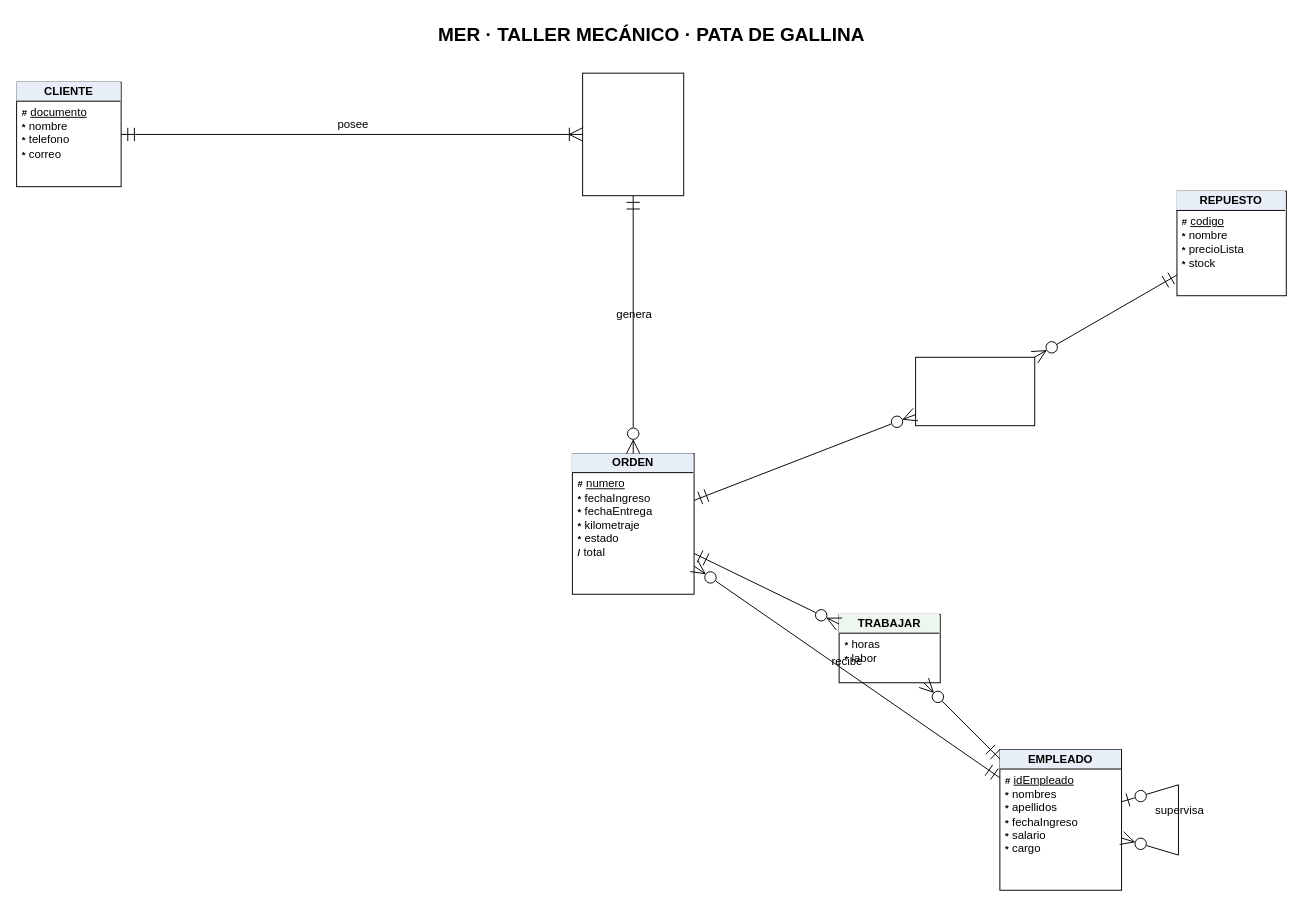
Some shapes in this 1303 by 907 pixel diagram are drawn without their labels. The centre of each missing label's shape, as x and y in pixels:
USAR * cantidad * valorUnitario: point (975, 391)
VEHICULO # placa * marca * linea * modelo * color: point (633, 134)
